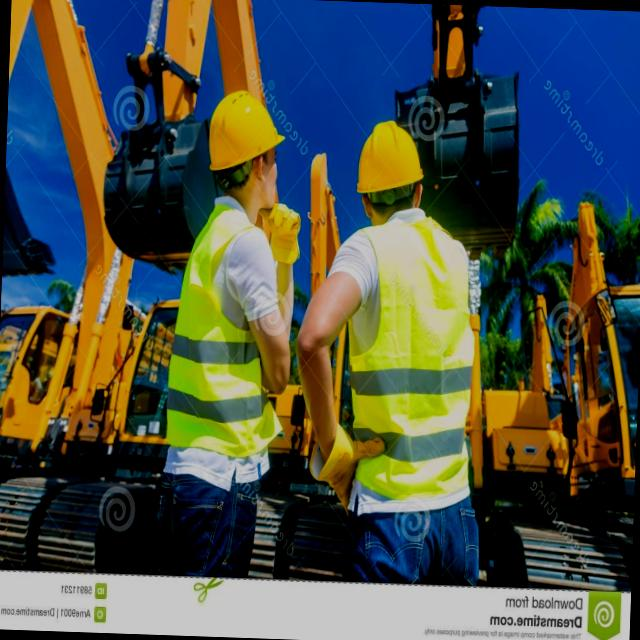helmet: (201, 84, 290, 178), (340, 125, 428, 202)
vest: (344, 222, 476, 502), (169, 217, 270, 461)
